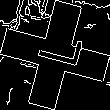L_W: (27, 34, 83, 76)
